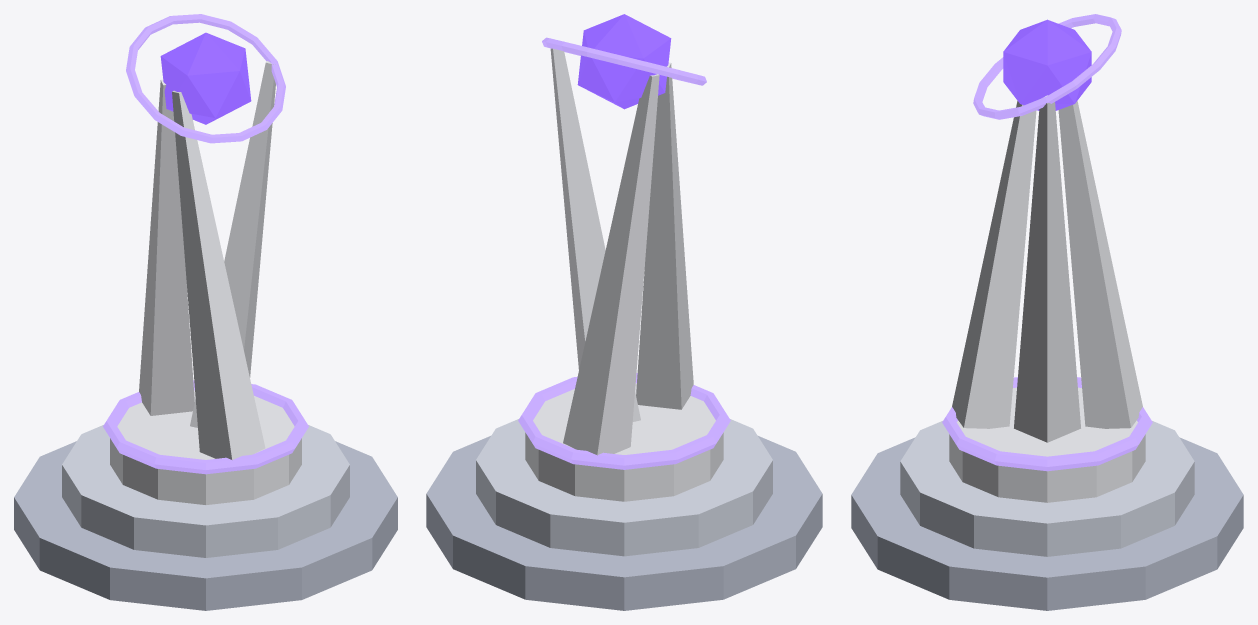
File: city_monument.glb
The picture shows the model from 3 angles, left to right: view 1: azimuth 30°, elevation 25°; view 2: azimuth 150°, elevation 25°; view 3: azimuth 270°, elevation 25°; orthographic projection. The views are drawn at different scales.
Parts seen in each view (by area): view 1: city_monument; view 2: city_monument; view 3: city_monument.
Part boxes in pixels (<box>): city_monument: <box>14,14,397,610</box>; city_monument: <box>426,14,822,610</box>; city_monument: <box>851,14,1243,610</box>.
Size of the model in its own units: 6.4 by 9.15 by 6.4.
